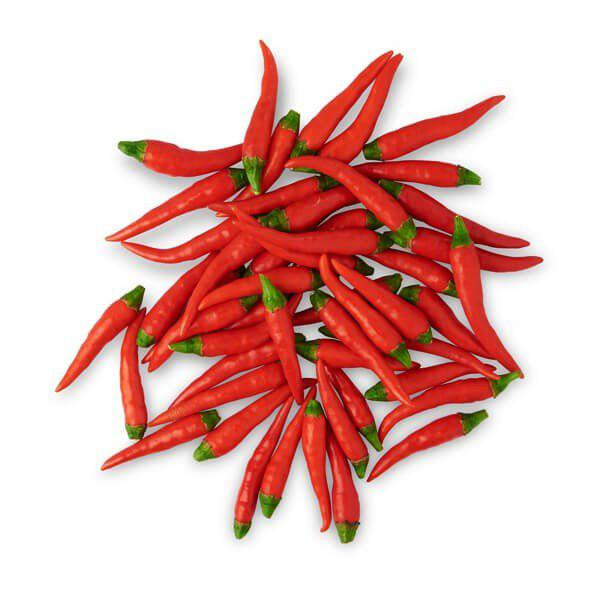lada merah: (356, 87, 522, 171), (380, 180, 541, 257), (106, 168, 233, 255), (293, 45, 393, 153), (368, 409, 489, 494), (316, 300, 409, 406), (451, 240, 522, 377), (56, 280, 143, 390), (325, 260, 409, 367), (147, 347, 272, 416), (232, 402, 289, 551), (88, 414, 229, 473), (241, 38, 287, 204), (335, 260, 430, 339), (142, 370, 297, 418), (119, 125, 249, 174), (263, 404, 305, 555), (295, 395, 336, 544), (344, 152, 503, 188), (233, 222, 395, 254), (116, 323, 153, 449), (323, 429, 357, 564), (185, 326, 284, 361)
